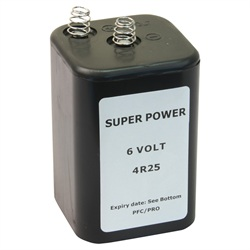6V: (47, 4, 204, 244)
